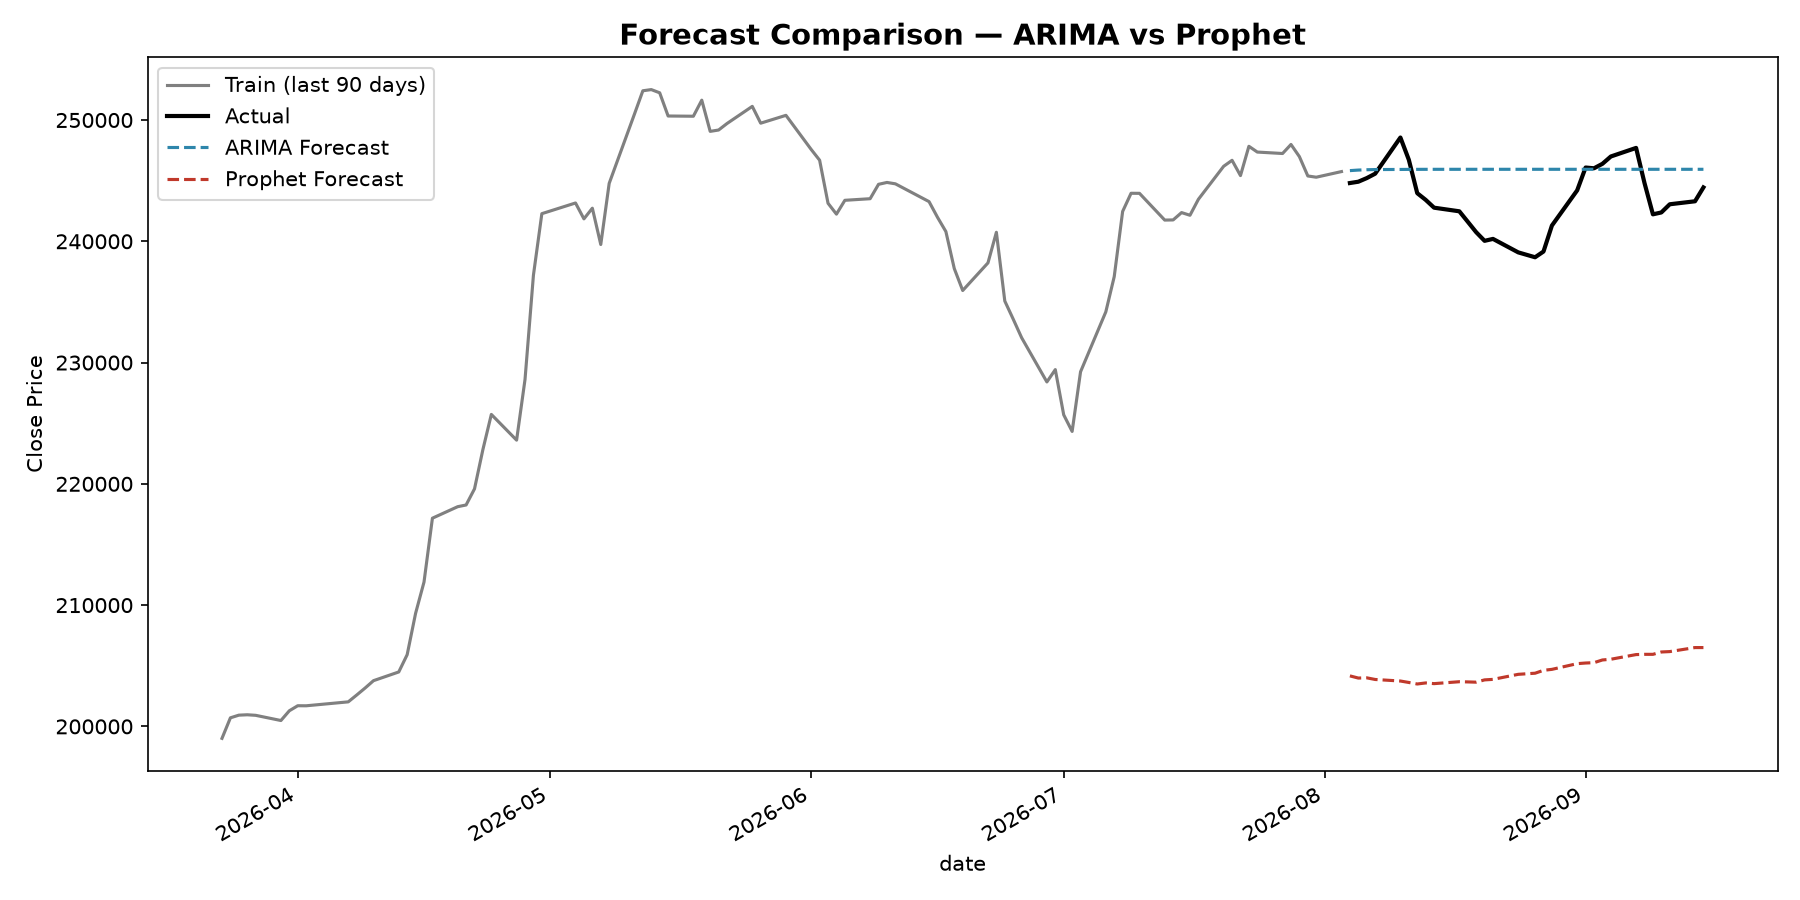

Layout of this report page (visuals, bound fields, positions):
{"tool":"powerbi","page":{"name":"Forecast","canvas":[1280,720],"ordinal":2},"visuals":[{"type":"lineChart","title":"Forecast Comparison — Actual vs. ARIMA vs. Prophet","fields":{"Category":["forecast_results.date.Variation.Date Hierarchy.Year","forecast_results.date.Variation.Date Hierarchy.Quarter","forecast_results.date.Variation.Date Hierarchy.Month","forecast_results.date.Variation.Date Hierarchy.Day"],"Y":["Avg(forecast_results.actual)","Avg(forecast_results.arima_forecast)","Avg(forecast_results.prophet_forecast)"]},"box":[9.6,0,1270.7,720.4],"z":0}]}

Visuals, with their boxes on the page's 1280x720 design canvas (x1, y1, x2, y2). These are canvas units, not pixel positions in the 1800x900 screenshot, which may show the page scaled, cropped or inside an application window:
"Forecast Comparison — Actual vs. ARIMA vs. Prophet" lineChart: [10,0,1280,720]
